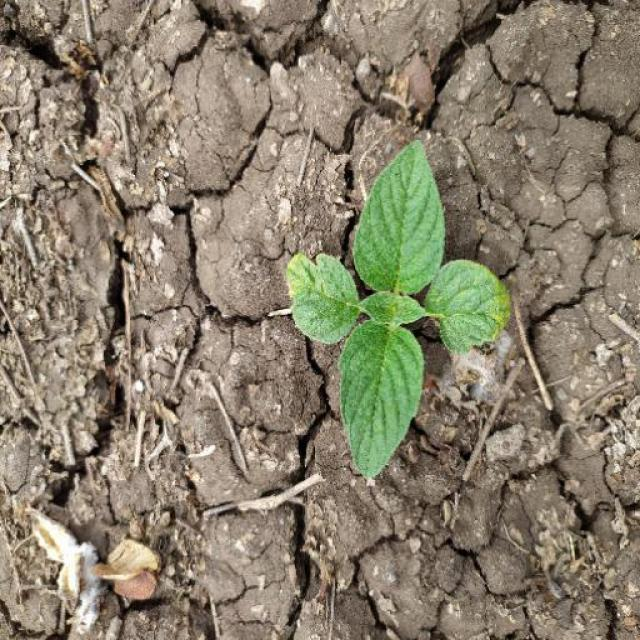crop: (274, 144, 538, 498)
